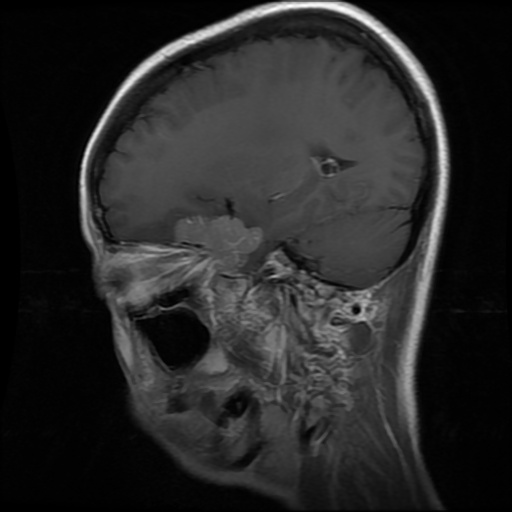meningioma: (173, 213, 262, 270)
